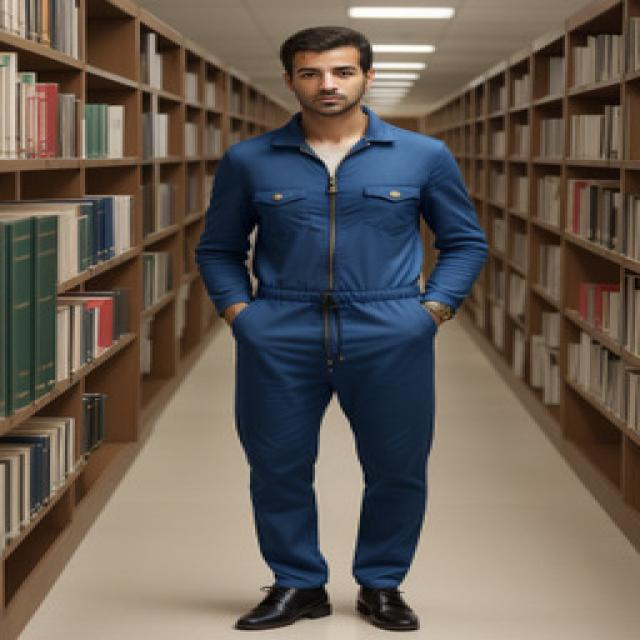Ai human 2: (184, 17, 509, 640)
